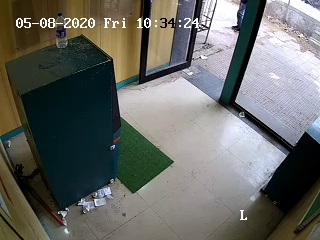open: (133, 3, 258, 110)
